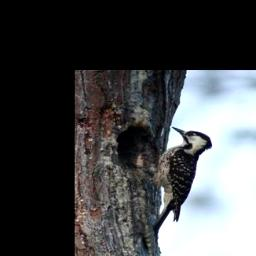Woodpecker: (129, 125, 214, 233)
